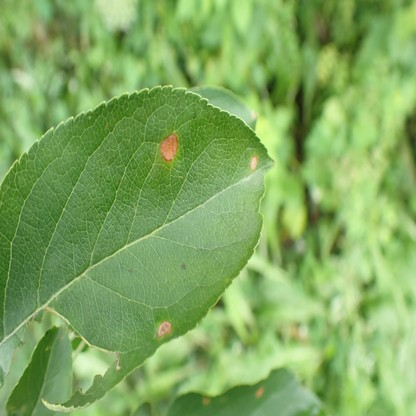frogeye_leaf_spot: (161, 133, 178, 160), (158, 321, 171, 335), (250, 155, 257, 171), (256, 386, 263, 398)
